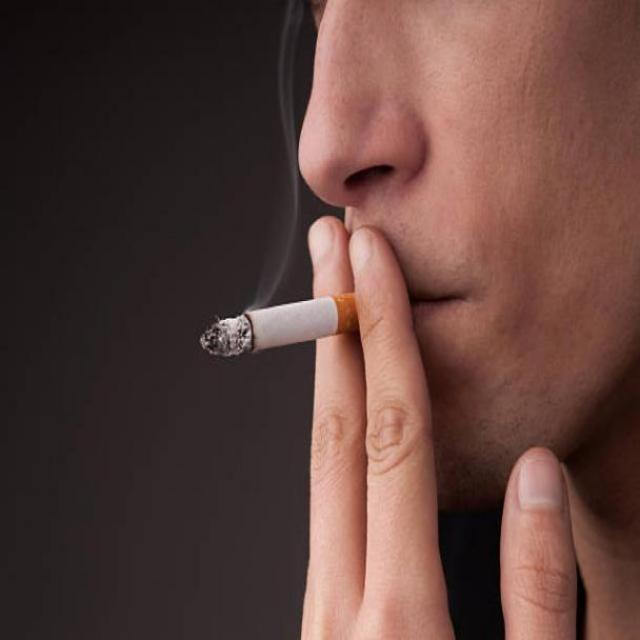rokok: (191, 292, 361, 358)
